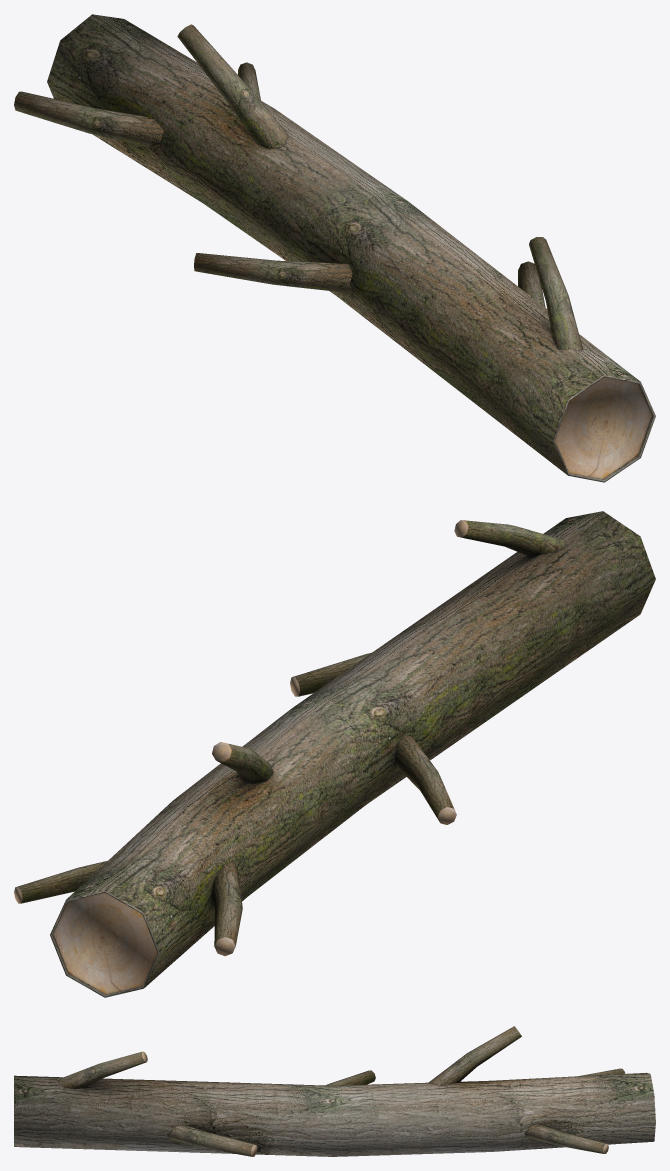
Rendered from trunkwood.obj.
The picture shows the model from 3 angles, top to bottom: view 1: azimuth 30°, elevation 25°; view 2: azimuth 150°, elevation 25°; view 3: azimuth 270°, elevation 25°; orthographic projection. The views are drawn at different scales.
Parts seen in each view (by area): view 1: Cube.002_Cube.004; view 2: Cube.002_Cube.004; view 3: Cube.002_Cube.004.
Part boxes in pixels (x1=…): Cube.002_Cube.004: x1=14, y1=14, x2=655, y2=482; Cube.002_Cube.004: x1=14, y1=511, x2=655, y2=997; Cube.002_Cube.004: x1=14, y1=1026, x2=655, y2=1156.
Bounding box in the file's own units: 0.5882 × 0.4038 × 2.02.
1 material, 1 textured.
